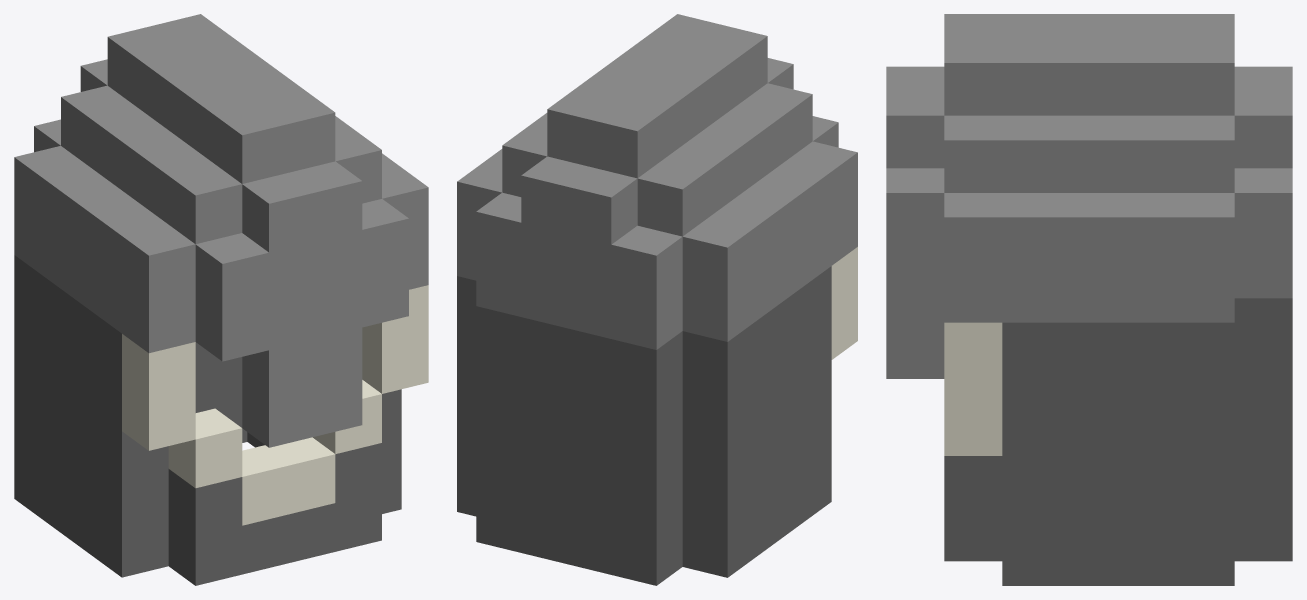
File: humanoid-248-helm_med_2a_du.obj
3 views of the same model, side by side, from view 1: azimuth 30°, elevation 25°; view 2: azimuth 150°, elevation 25°; view 3: azimuth 270°, elevation 25° (orthographic). The views are drawn at different scales.
Visible parts, largest first — view 1: helm_med_2a_du; view 2: helm_med_2a_du; view 3: helm_med_2a_du.
Part boxes in pixels (x1,y1,x2,y2): helm_med_2a_du: [14, 14, 428, 585]; helm_med_2a_du: [457, 14, 857, 585]; helm_med_2a_du: [886, 14, 1292, 585].
Size of the model in its own units: 0.6 by 0.9 by 0.7.
1 material, 1 textured.
